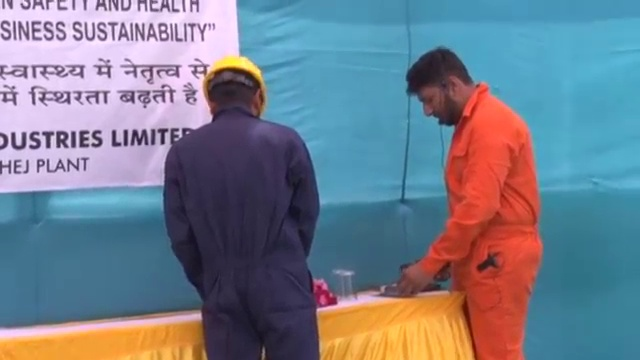helmet: (199, 54, 267, 106)
helmet_off: (402, 45, 478, 131)
helmet_on: (201, 55, 267, 125)
person: (163, 55, 321, 360), (398, 45, 542, 360)
